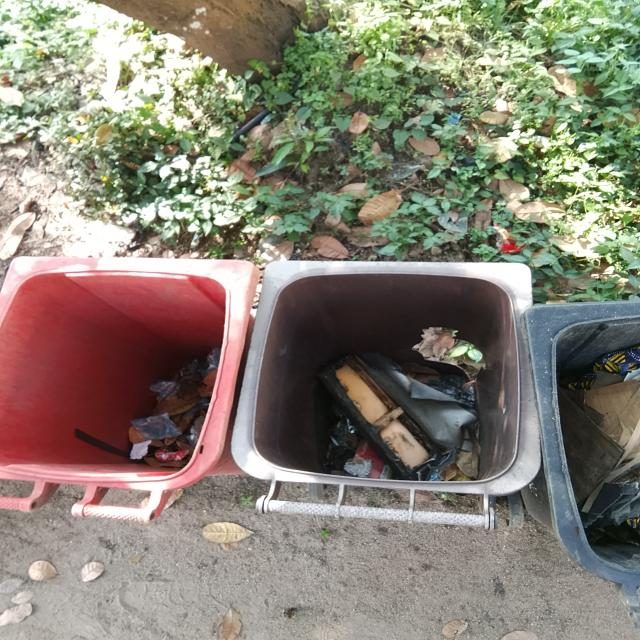half-full: (241, 253, 544, 492), (0, 252, 243, 484), (517, 295, 640, 586)
